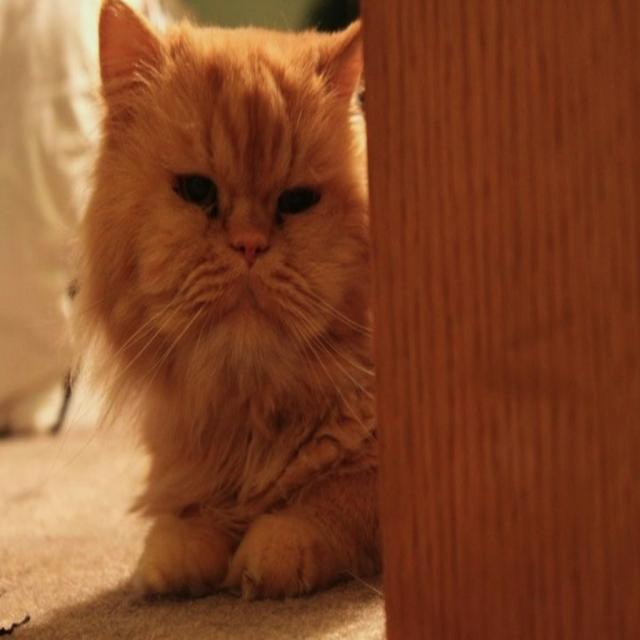Cat: (54, 0, 376, 599)
